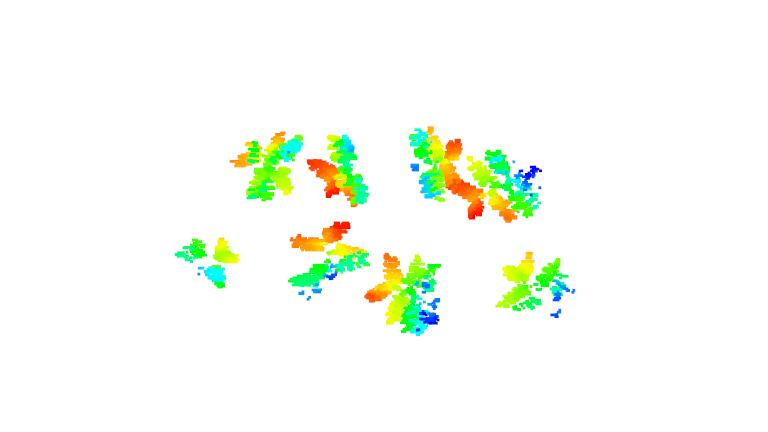chickpea: (363, 252, 442, 335), (286, 219, 367, 293), (469, 148, 548, 220), (490, 248, 569, 318), (229, 129, 304, 200), (306, 128, 373, 207), (403, 125, 470, 202), (172, 230, 239, 296)
